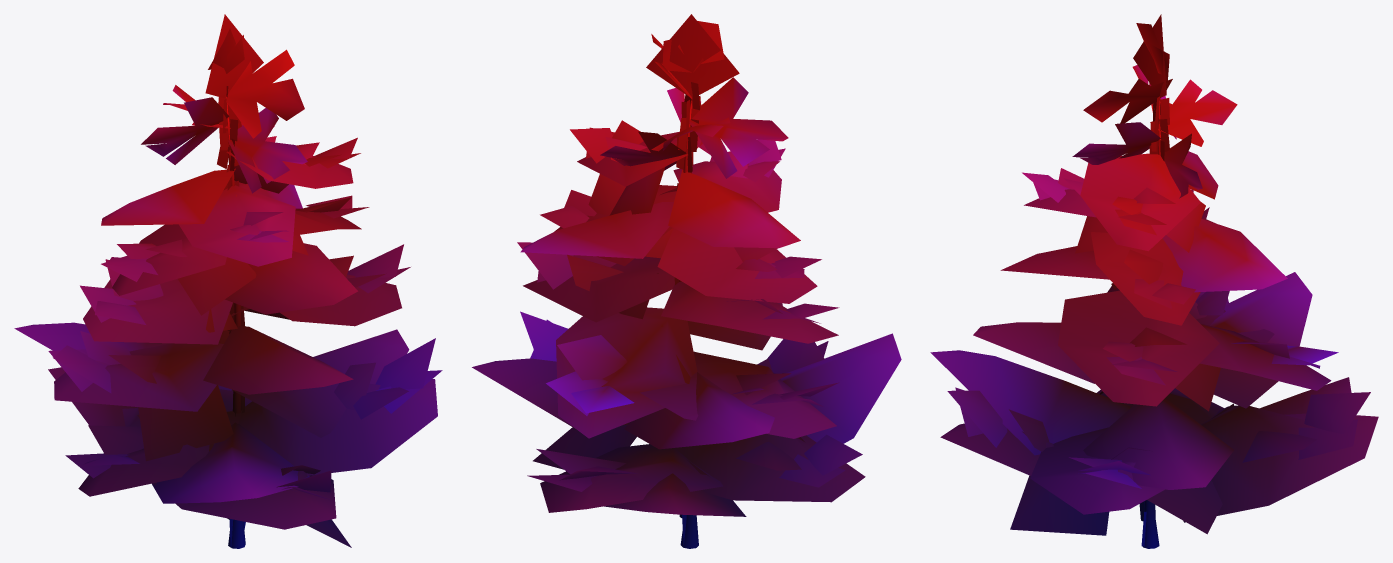
File: Fir_01_Plant.FBX
The picture shows the model from 3 angles, left to right: view 1: azimuth 30°, elevation 25°; view 2: azimuth 150°, elevation 25°; view 3: azimuth 270°, elevation 25°; orthographic projection.
Parts seen in each view (by area): view 1: Fir_01_Plant_LOD0; view 2: Fir_01_Plant_LOD0; view 3: Fir_01_Plant_LOD0.
Part boxes in pixels (left/top/right/bottom): Fir_01_Plant_LOD0: left=14, top=14, right=442, bottom=548; Fir_01_Plant_LOD0: left=472, top=14, right=901, bottom=548; Fir_01_Plant_LOD0: left=930, top=14, right=1378, bottom=548.
Size of what is drawn, in the model's own units: 3841 by 5506 by 4226.
